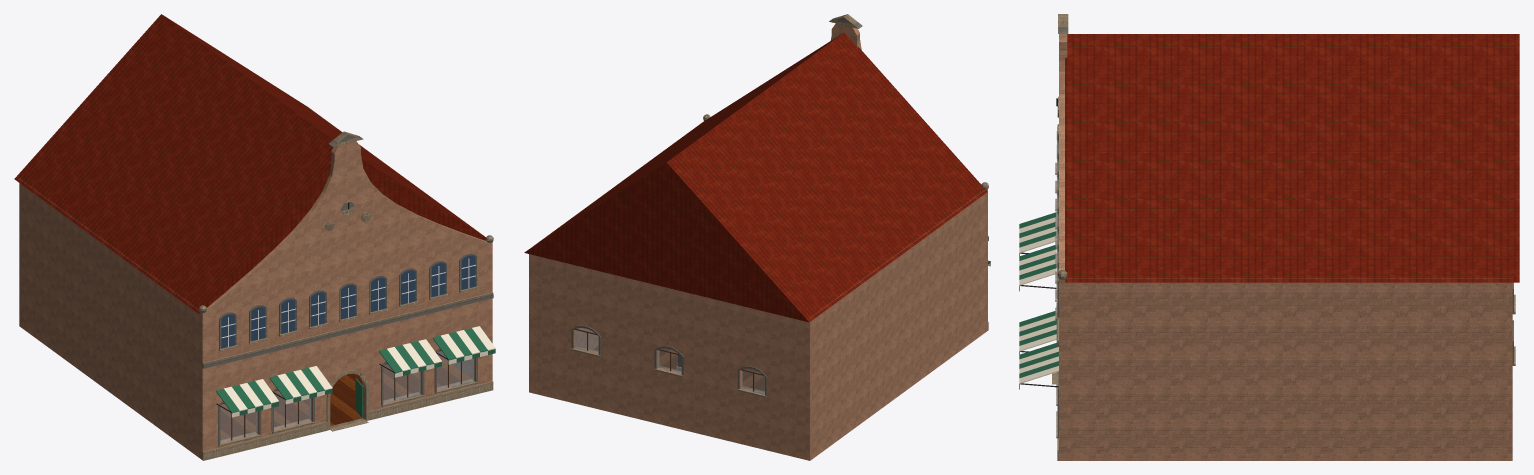
Rendered from shop_bookshop.gltf.
3 views of the same model, side by side, from view 1: azimuth 30°, elevation 25°; view 2: azimuth 150°, elevation 25°; view 3: azimuth 270°, elevation 25° (orthographic). The views are drawn at different scales.
Parts seen in each view (by area): view 1: shop_bookshop; view 2: shop_bookshop; view 3: shop_bookshop.
Boxes of the visible parts, left/top/right/bottom form: shop_bookshop: left=14, top=14, right=495, bottom=460; shop_bookshop: left=524, top=14, right=990, bottom=460; shop_bookshop: left=1019, top=14, right=1519, bottom=460.
Size of what is drawn, in the model's own units: 17.96 by 16.97 by 21.4.
9 materials, 5 textured.
